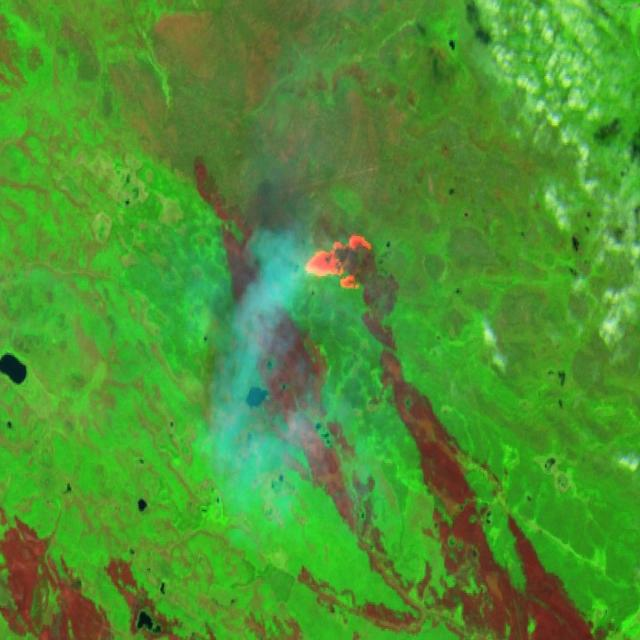fire: (298, 225, 375, 298)
